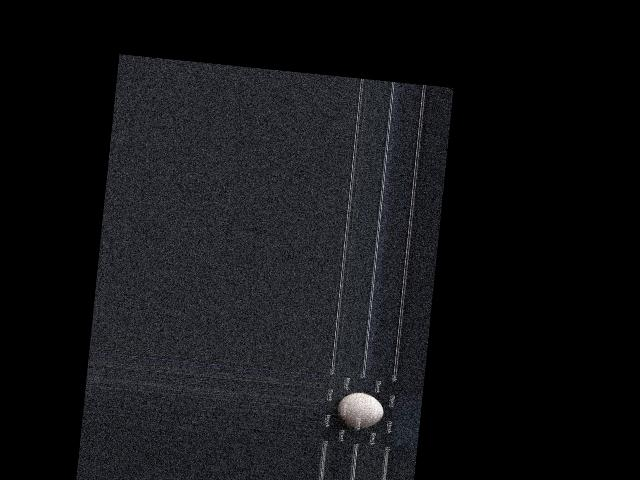egg: (335, 391, 384, 430)
